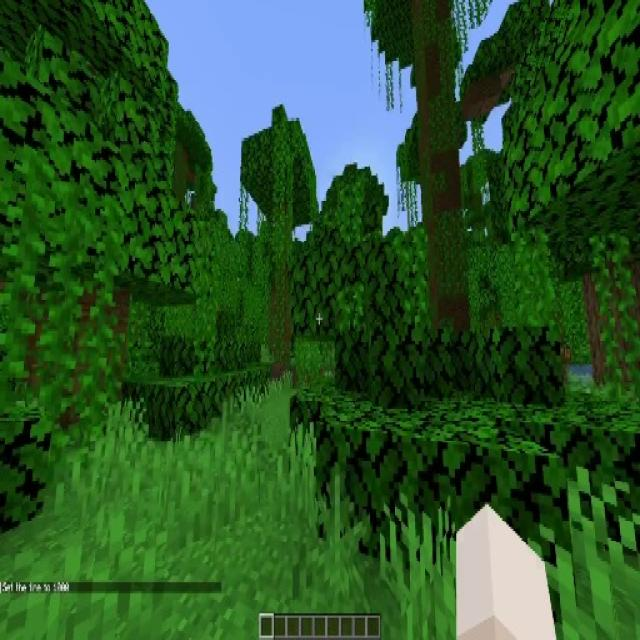jungle: (244, 106, 316, 361)
jungle_log: (415, 0, 467, 326), (272, 180, 291, 364)
